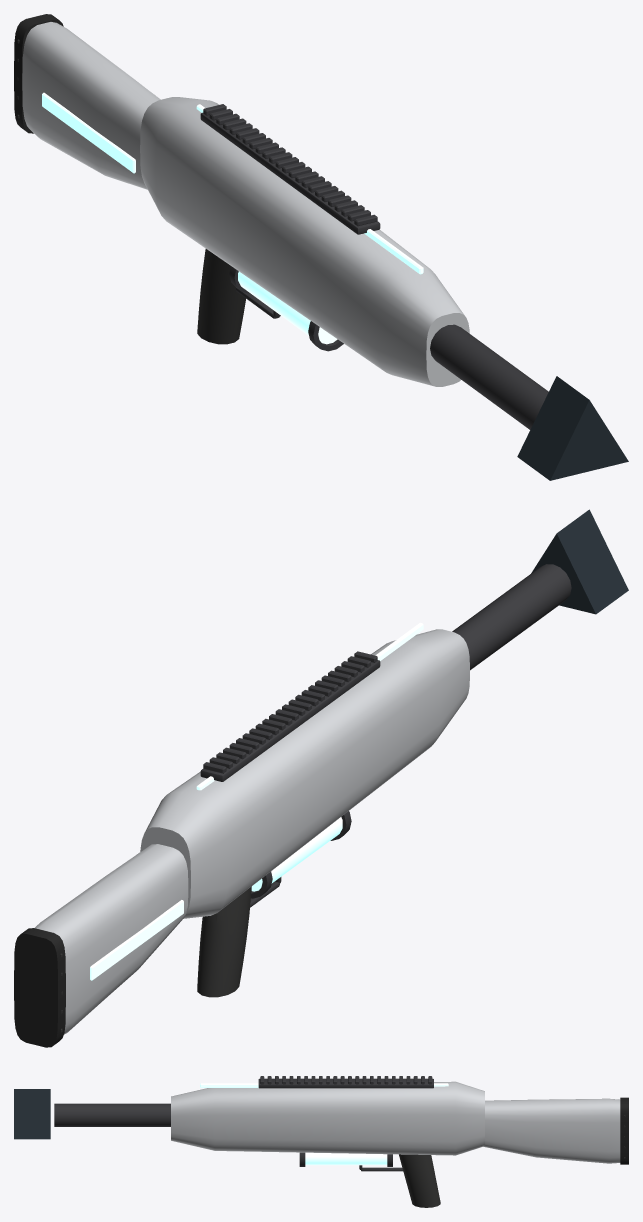
The model's file is reflectron.glb.
3 renders of one model, top to bottom at view 1: azimuth 30°, elevation 25°; view 2: azimuth 150°, elevation 25°; view 3: azimuth 270°, elevation 25°, orthographic. The views are drawn at different scales.
Visible parts, largest first — view 1: Body; view 2: Body; view 3: Body.
Boxes of the visible parts, x1,y1,x2,y2 form: Body: (14, 14, 628, 480); Body: (14, 509, 628, 1047); Body: (14, 1076, 628, 1207).
Bounding box in the file's own units: 0.0693 × 0.1884 × 0.842.
